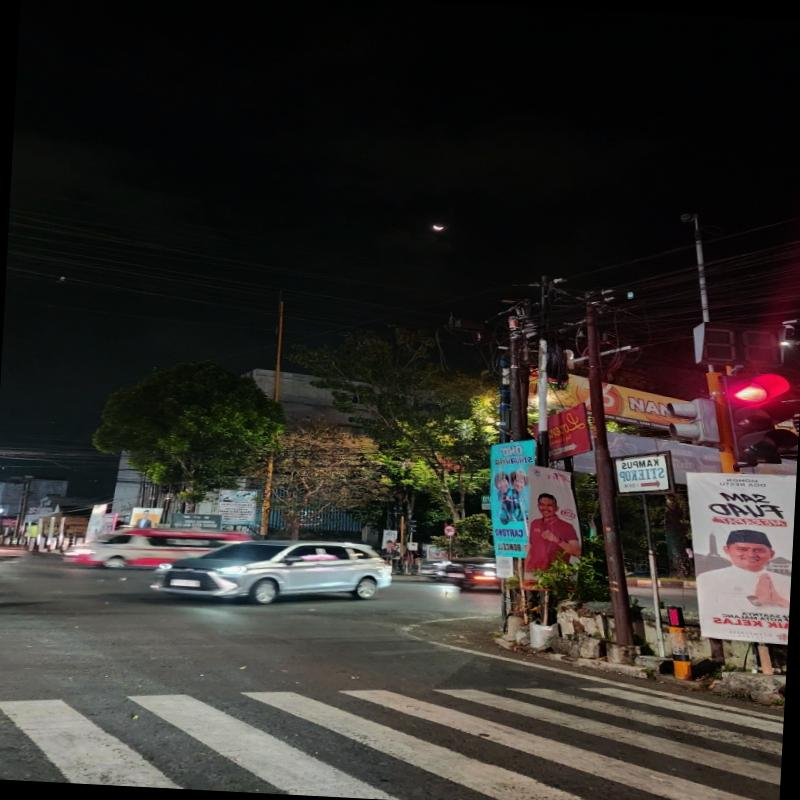license plate on a car: (169, 579, 197, 587)
